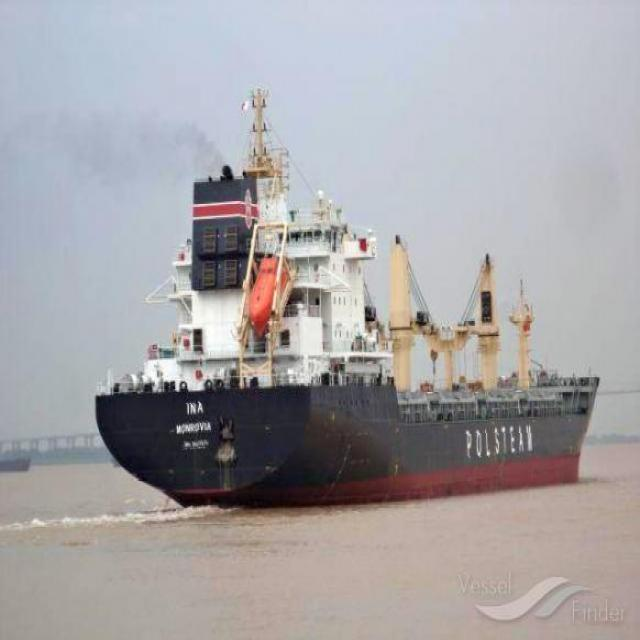OCR: (454, 422, 540, 470), (161, 396, 223, 450)
